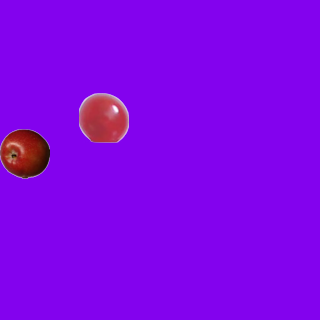Apple Braeburn: (0, 128, 49, 178)
Redcurrant: (78, 92, 128, 142)
